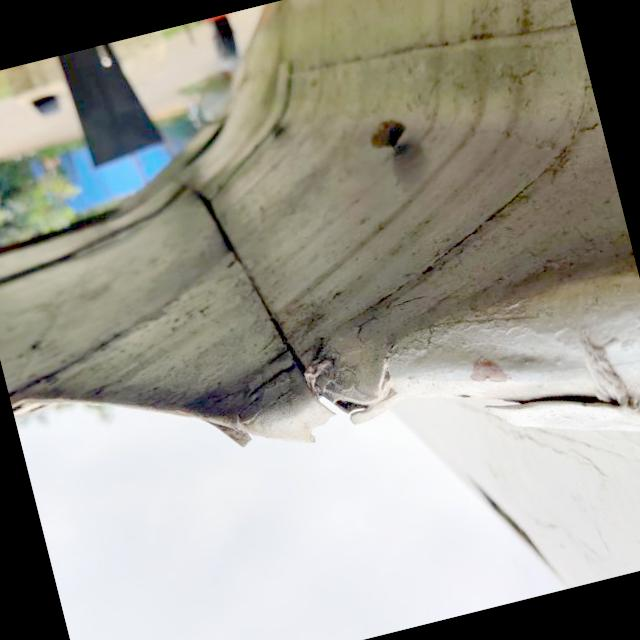crack: (182, 368, 330, 500), (298, 344, 402, 450)
